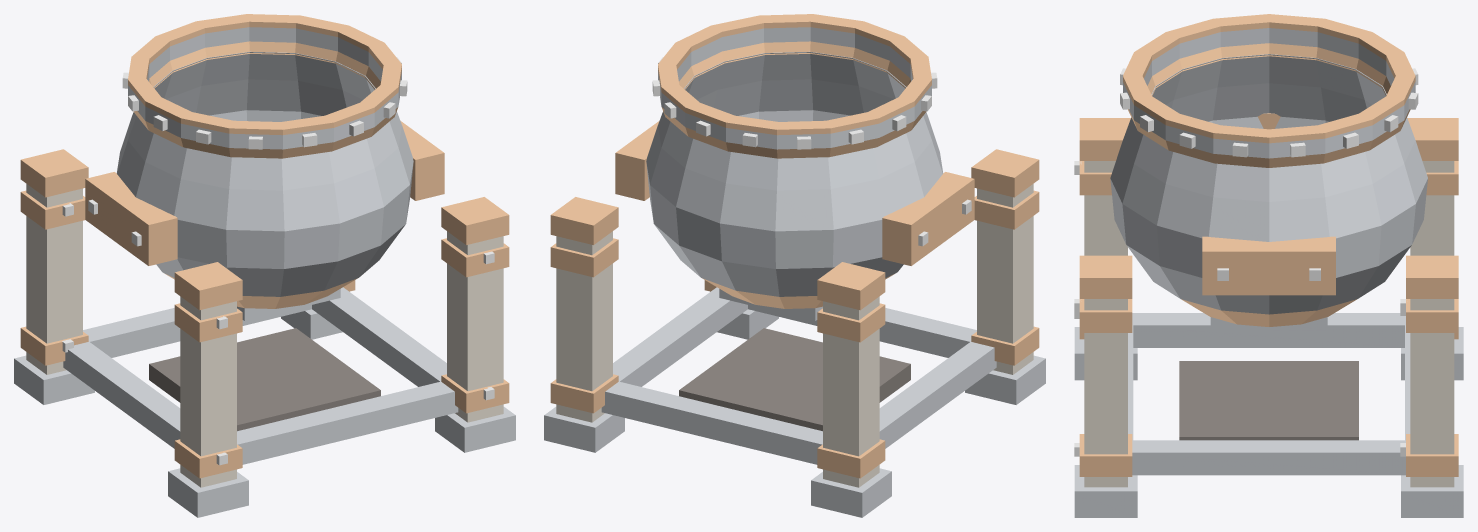
Rendered from cauldron.gltf.
3 views of the same model, side by side, from view 1: azimuth 30°, elevation 25°; view 2: azimuth 150°, elevation 25°; view 3: azimuth 270°, elevation 25° (orthographic). The views are drawn at different scales.
Bounding box in the file's own units: 0.93 × 0.95 × 0.931.
